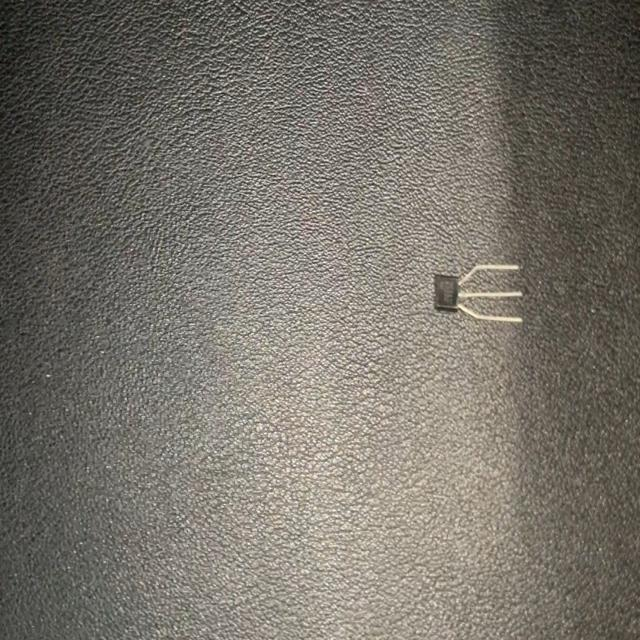BJT: (434, 258, 524, 326)
